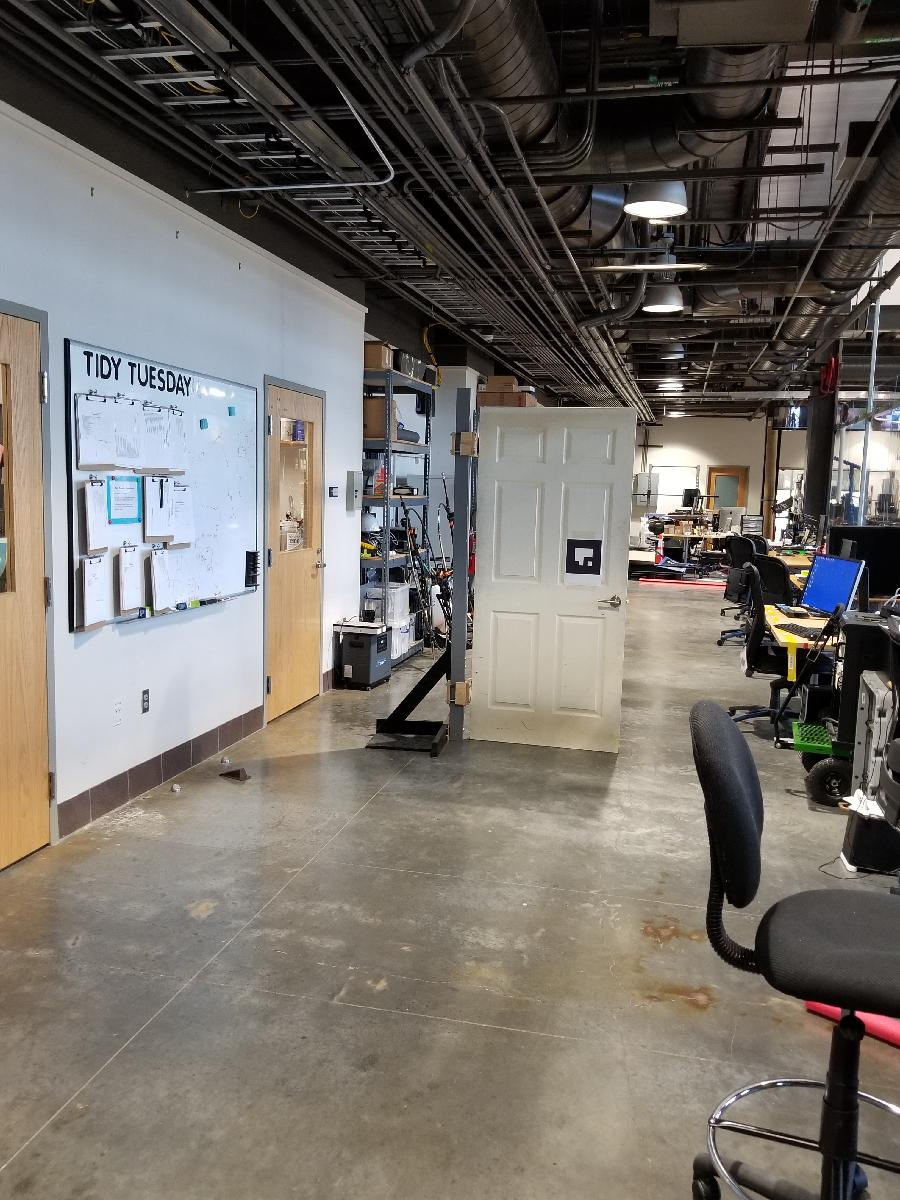door: (464, 403, 639, 758)
doorHandle: (594, 590, 624, 612)
